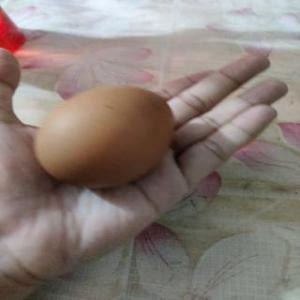egg: (31, 84, 177, 192)
